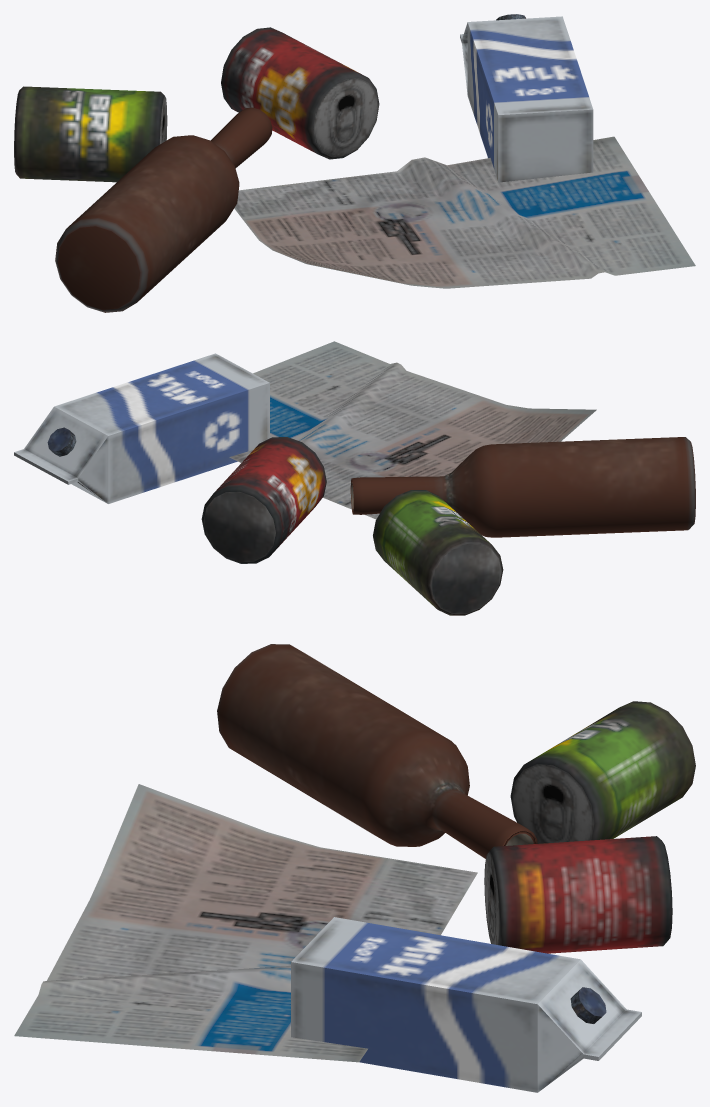
Rendered from Garbage_05.fbx.
3 views of the same model, one above another, from view 1: azimuth 30°, elevation 25°; view 2: azimuth 150°, elevation 25°; view 3: azimuth 270°, elevation 25° (orthographic). The views are drawn at different scales.
Visible parts, largest first — view 1: polySurface1146; view 2: polySurface1146; view 3: polySurface1146.
Part boxes in pixels (x1=…): polySurface1146: x1=14, y1=14, x2=695, y2=312; polySurface1146: x1=14, y1=341, x2=695, y2=615; polySurface1146: x1=14, y1=644, x2=695, y2=1092.
Size of the model in its own units: 157 by 22.8 by 125.
